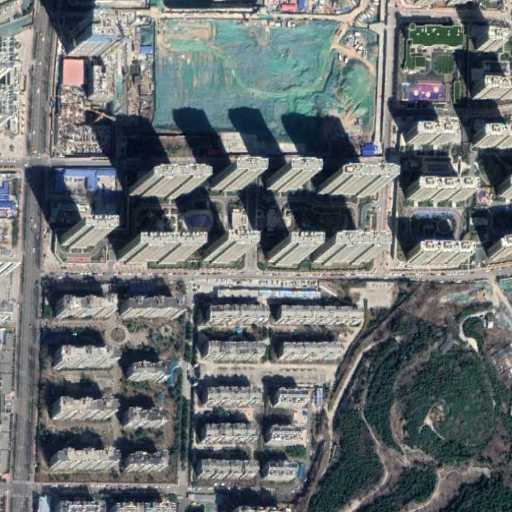cw: (154, 12, 378, 146)
